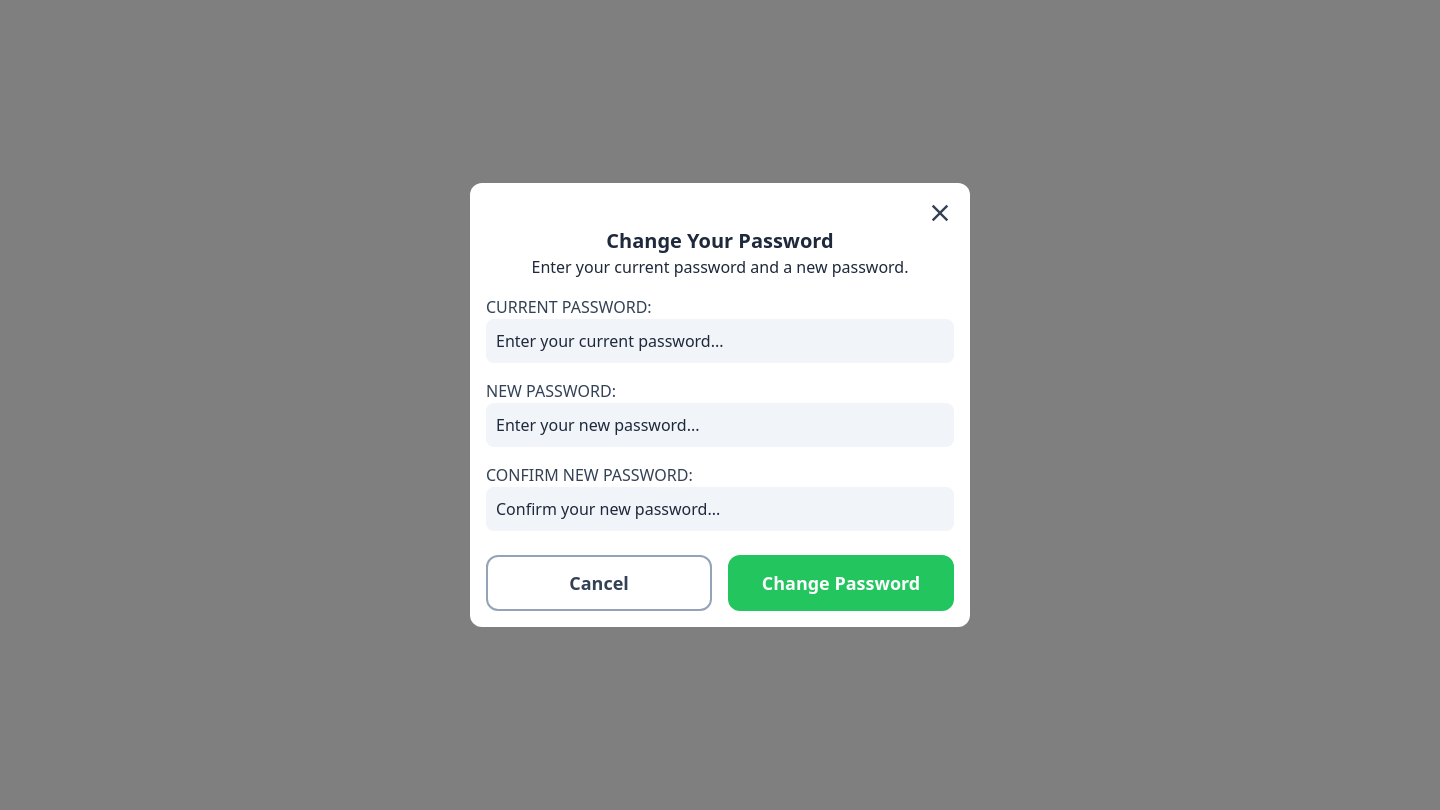
Scenario: <ChangePasswordModal /> › prevents password change with empty fields
Click the button with test id "submit-change-password-button". click: [841, 583]
box: [728,555,954,611]
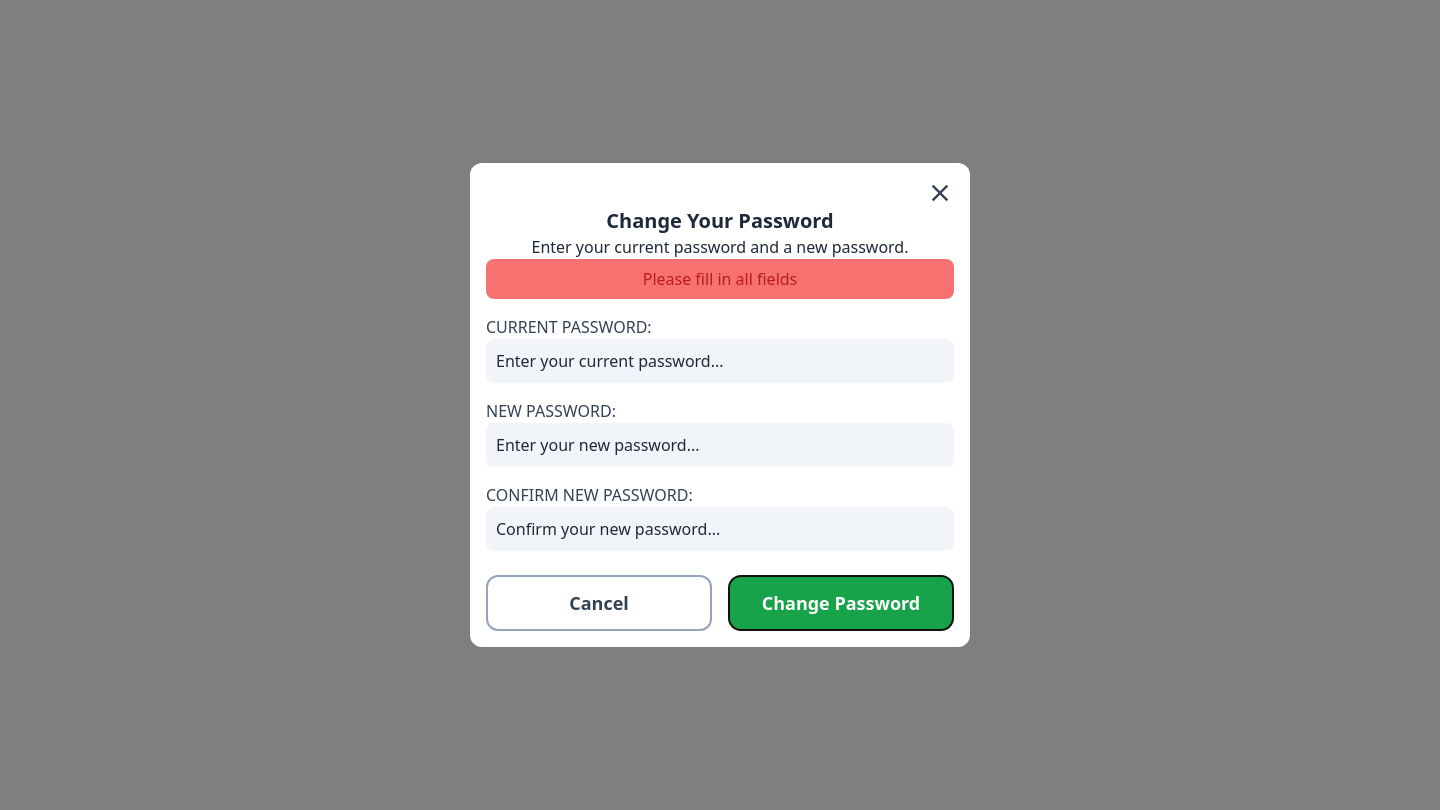
Now the text "Please fill in all fields" is shown, box [486,259,954,299]
Now the text with test id "notify-message" reads "Please fill in all fields", box [643,268,797,290]
